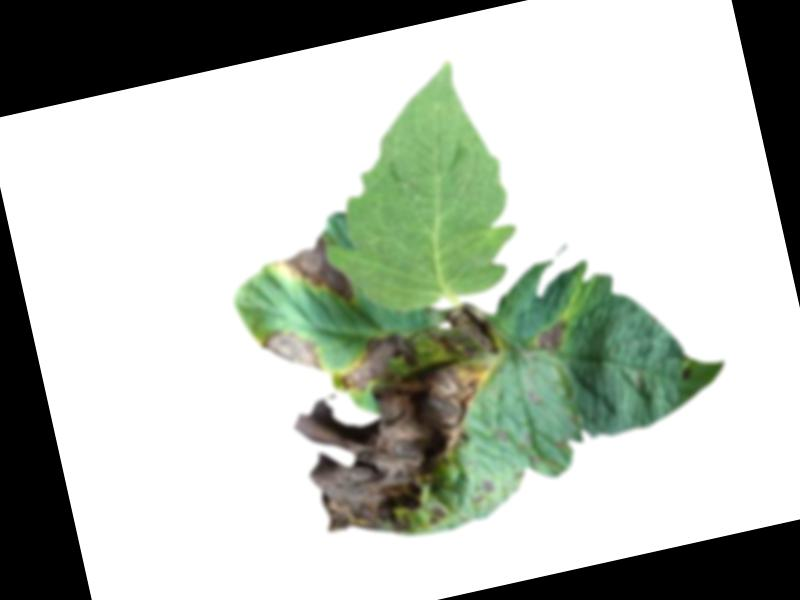Early_blight: (282, 351, 522, 554), (330, 325, 422, 395), (277, 234, 354, 314), (420, 299, 501, 368), (257, 324, 321, 380), (533, 319, 570, 353), (679, 364, 692, 381)
healthy: (288, 52, 528, 324)
